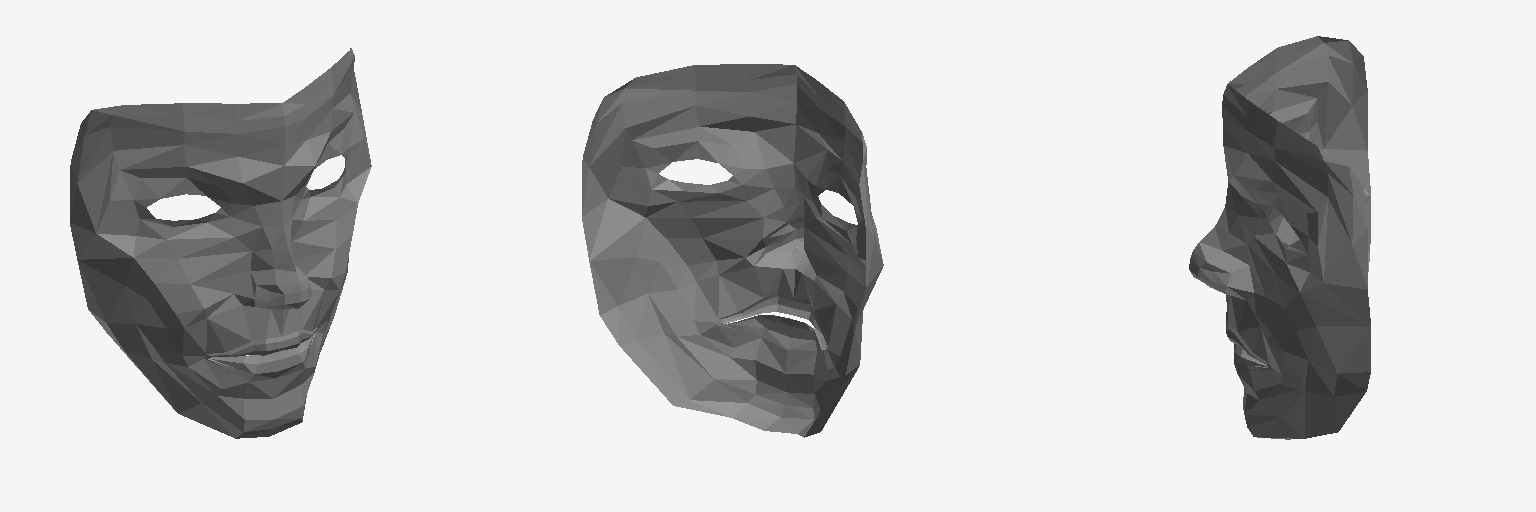
The model's file is Roque2.obj.
3 renders of one model, left to right at view 1: azimuth 30°, elevation 25°; view 2: azimuth 150°, elevation 25°; view 3: azimuth 270°, elevation 25°, orthographic.
Parts seen in each view (by area): view 1: Plane003; view 2: Plane003; view 3: Plane003.
Part boxes in pixels (x1,y1,x2,y2): Plane003: (70,48,371,438); Plane003: (582,64,883,437); Plane003: (1189,36,1370,439).
Size of the model in its own units: 27.41 by 31.63 by 15.18.